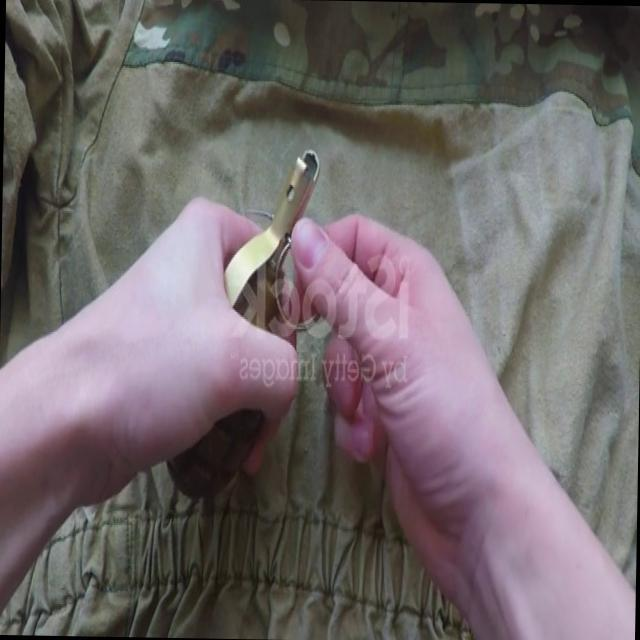grenade: (162, 140, 314, 496)
